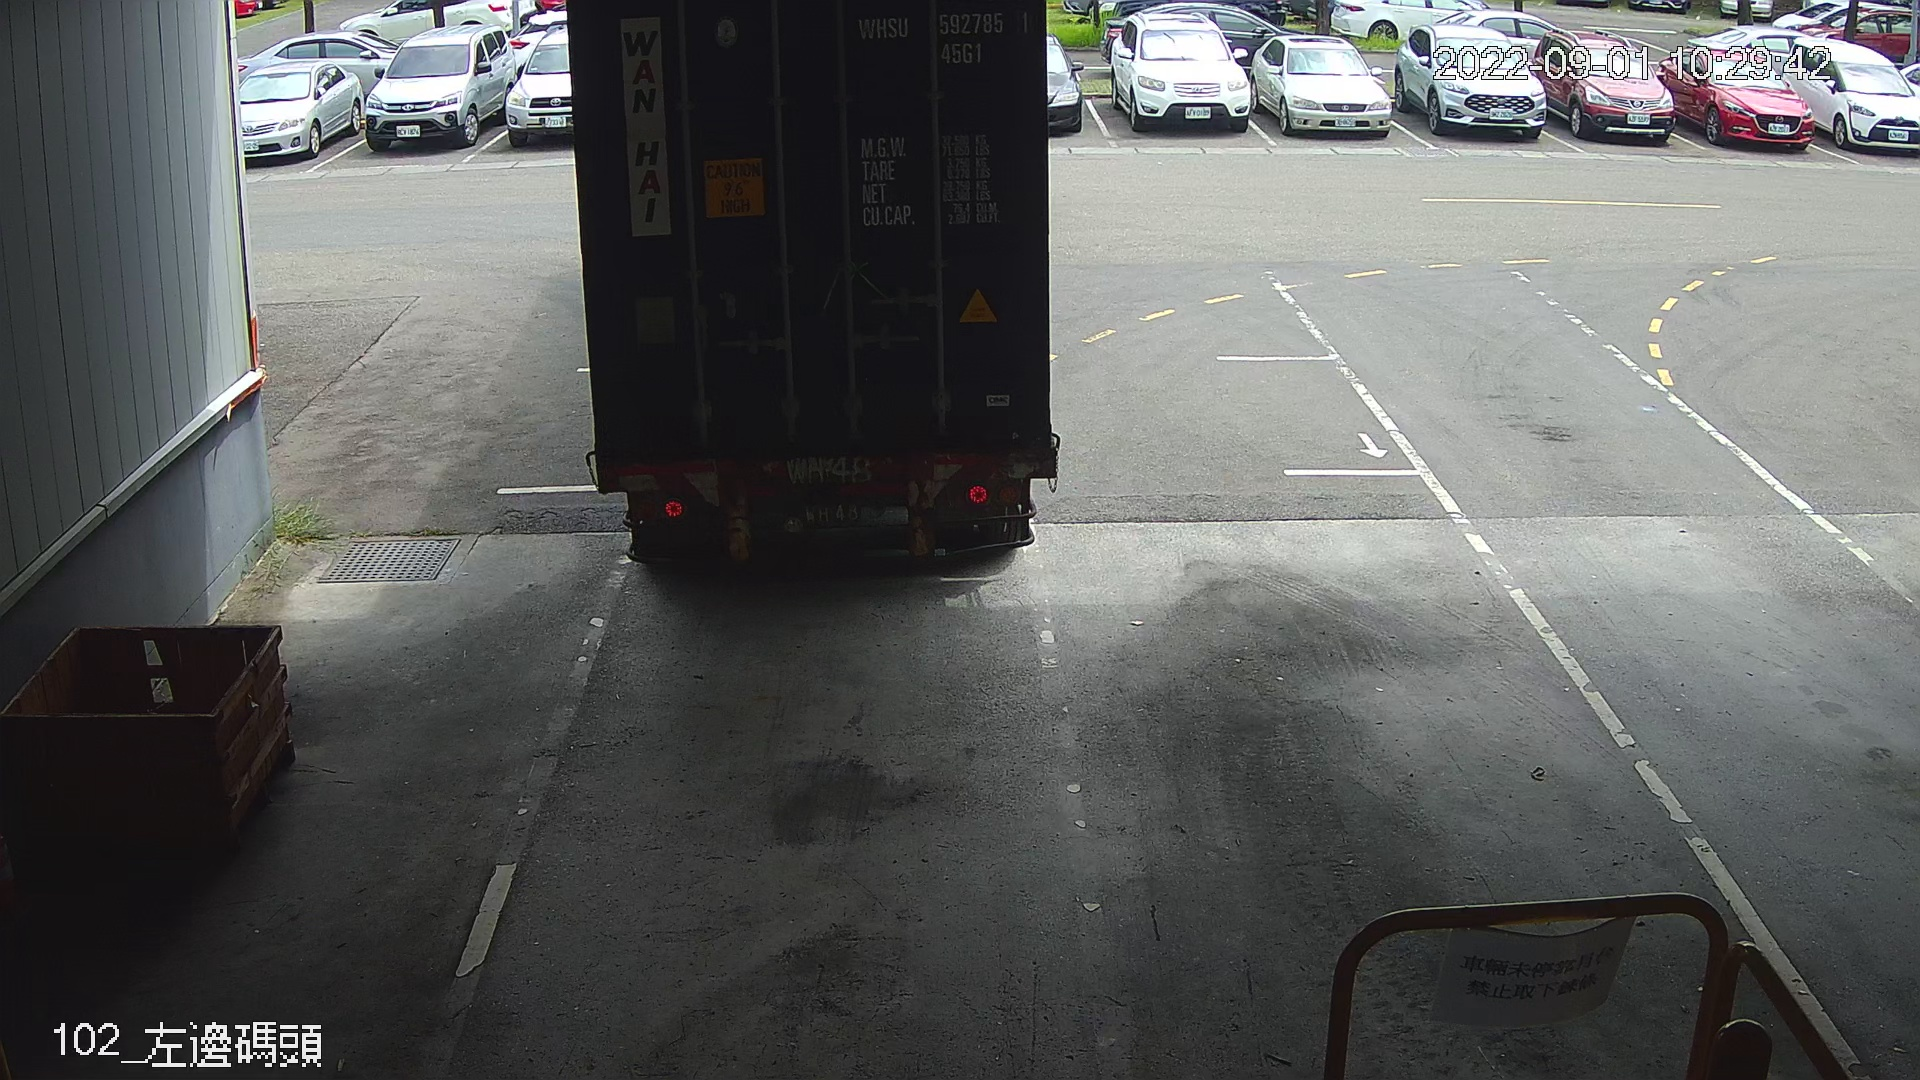container: (851, 3, 1036, 73)
